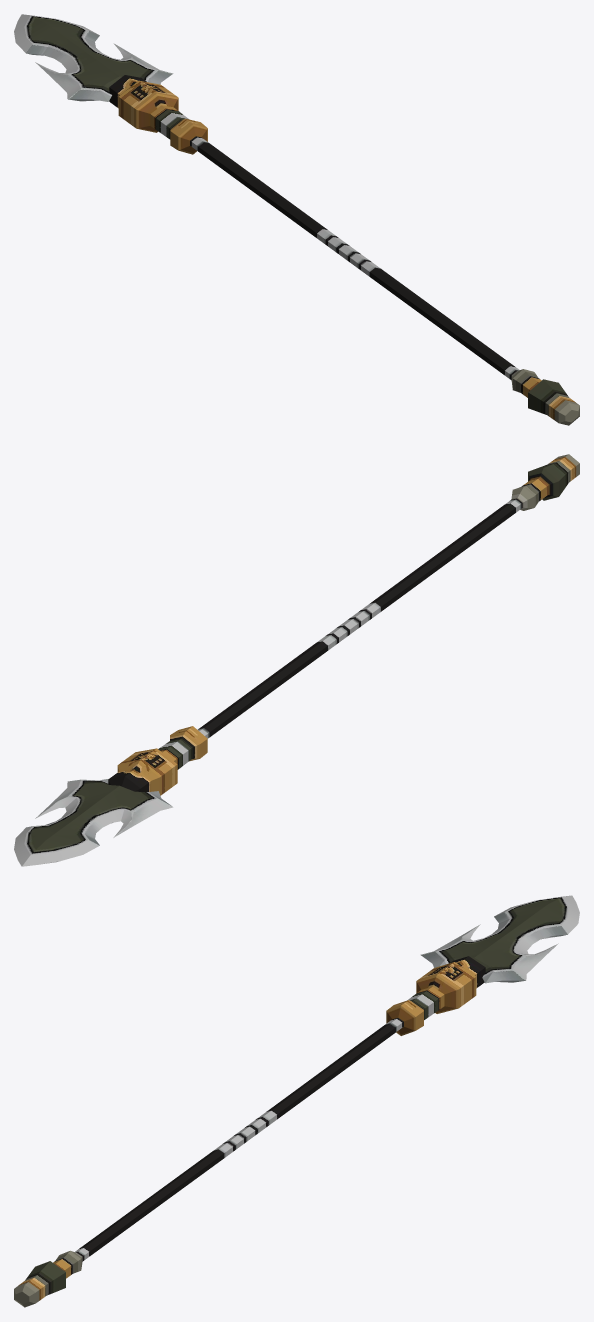
Rendered from weapon_lstest_otegine.glb.
3 renders of one model, top to bottom at view 1: azimuth 30°, elevation 25°; view 2: azimuth 150°, elevation 25°; view 3: azimuth 330°, elevation 25°, orthographic.
Bounding box in the file's own units: 0.3806 × 0.1348 × 3.42.
1 material, 1 textured.
